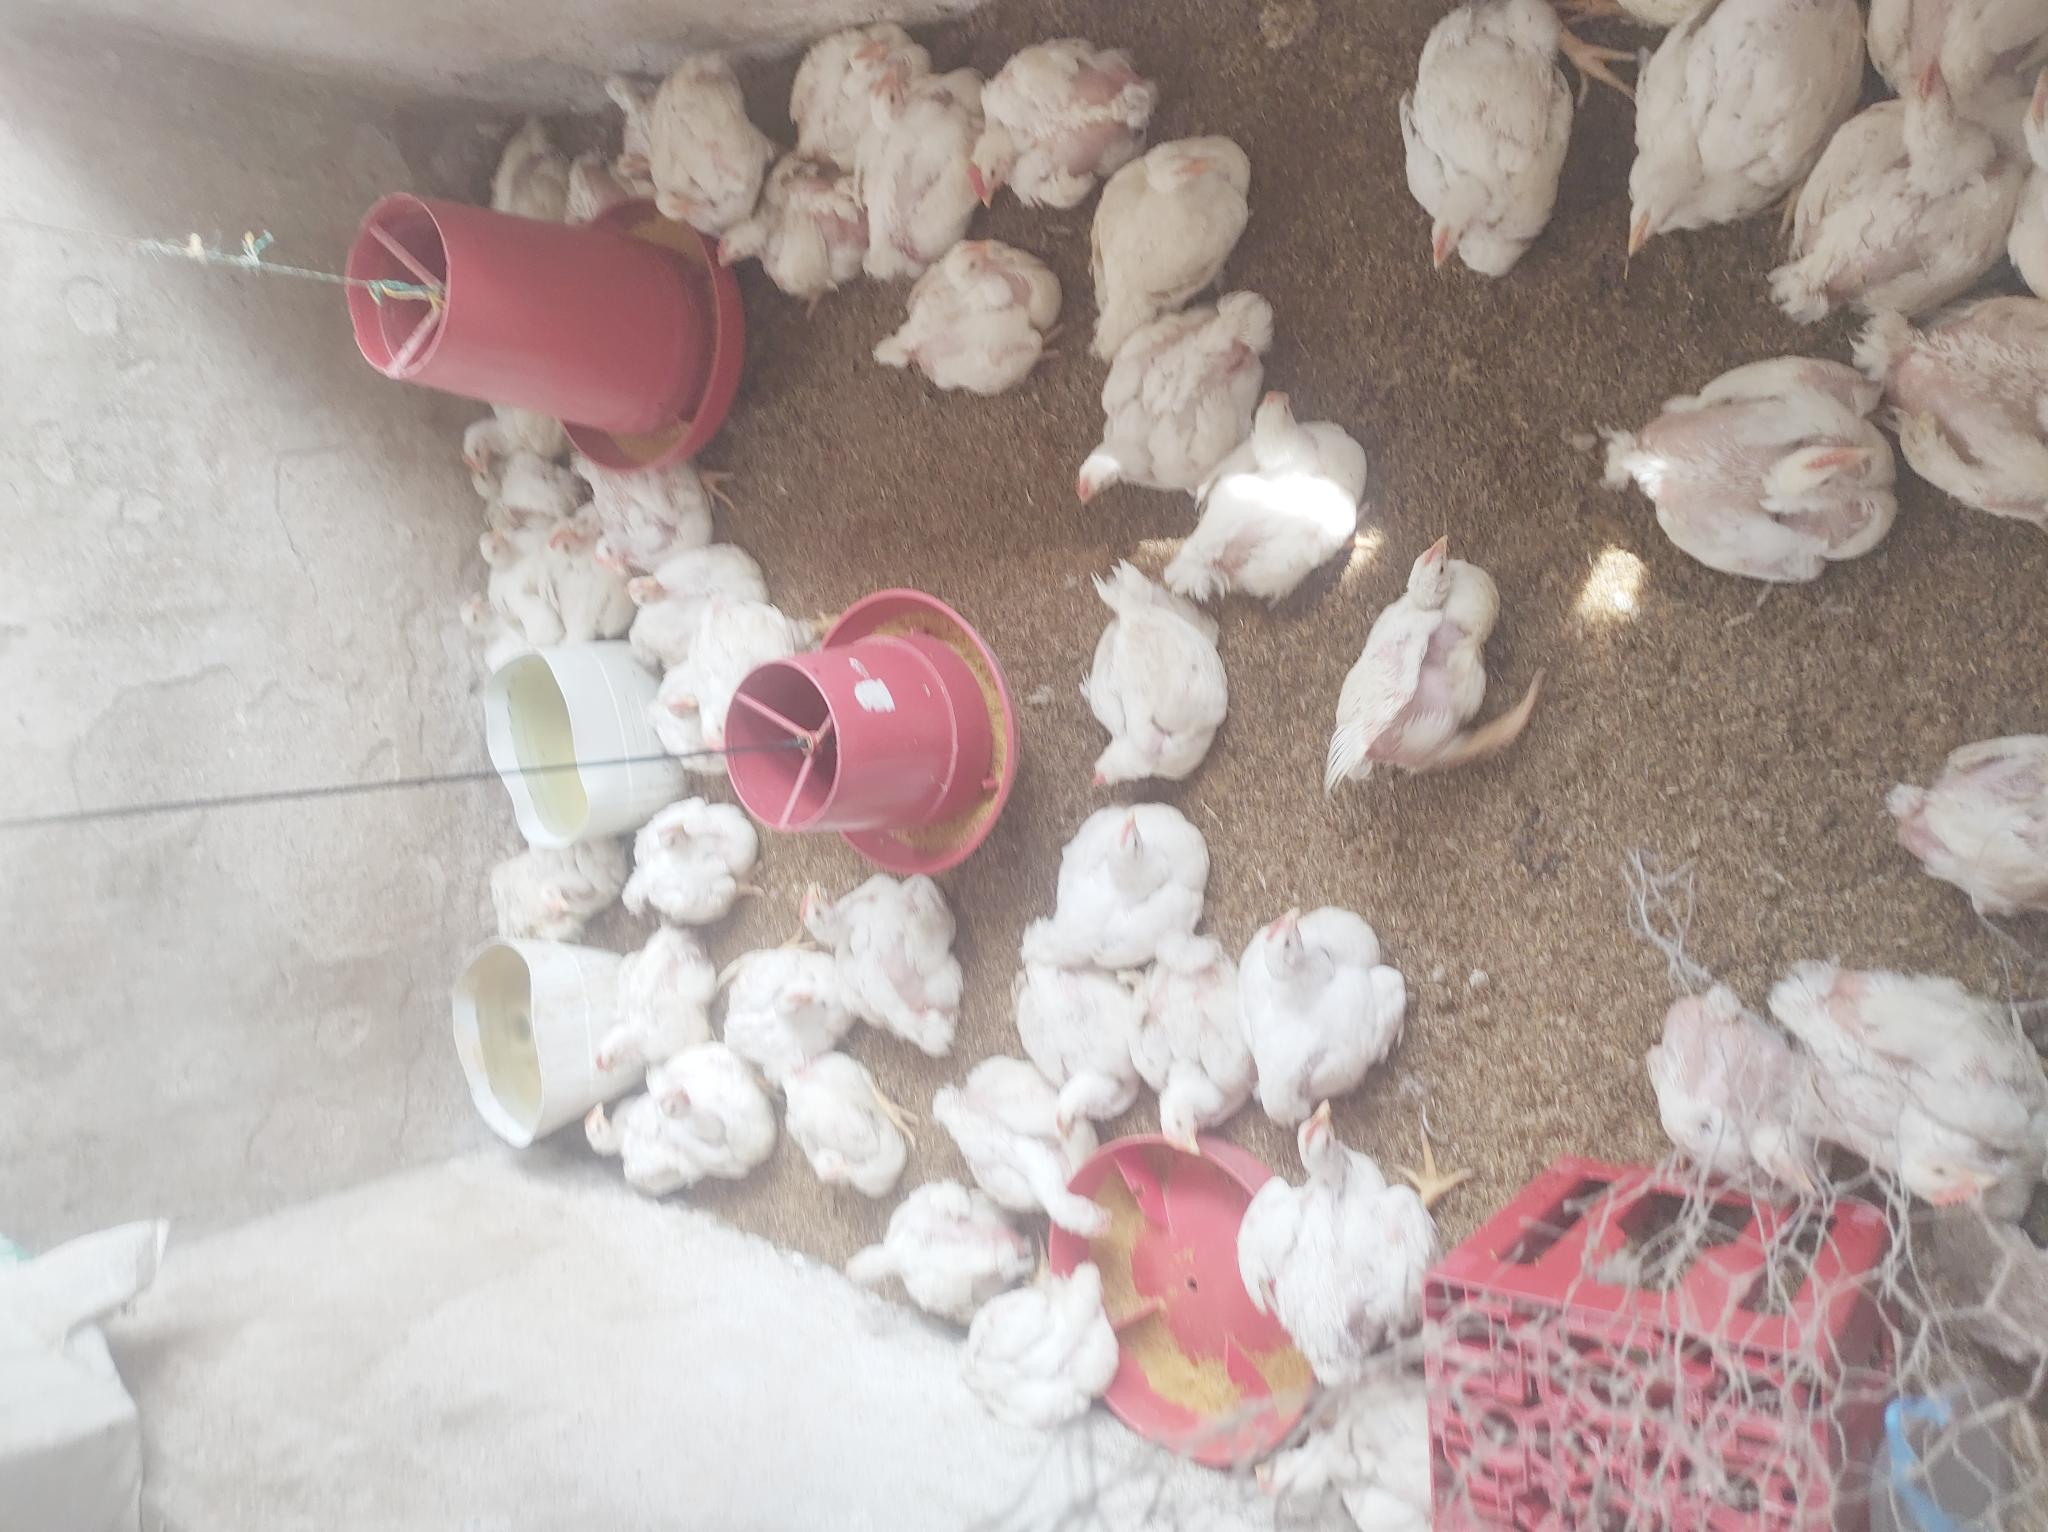Pollos: (1773, 914, 2048, 1263), (1612, 352, 1890, 591), (1609, 0, 1871, 249), (1390, 0, 1594, 309), (1779, 56, 2013, 312), (1618, 964, 1829, 1246), (1260, 1094, 1464, 1371), (1335, 521, 1538, 793), (1850, 282, 2048, 544), (1075, 286, 1282, 513), (1171, 391, 1371, 607), (1047, 563, 1239, 779), (1232, 887, 1408, 1109), (915, 1052, 1105, 1241), (1078, 129, 1261, 312), (1894, 711, 2048, 917), (1047, 790, 1211, 982), (951, 1266, 1142, 1427), (972, 47, 1150, 217), (553, 1056, 750, 1204), (883, 229, 1049, 396), (803, 863, 980, 1019), (1125, 920, 1239, 1152), (632, 640, 820, 780), (843, 79, 980, 270), (624, 793, 785, 932), (644, 50, 766, 232), (846, 1183, 1007, 1316), (716, 159, 859, 307), (988, 964, 1137, 1106), (769, 1038, 903, 1196), (785, 14, 927, 156), (463, 830, 627, 945), (705, 945, 843, 1078), (582, 467, 742, 576), (566, 933, 722, 1044), (611, 566, 782, 661), (491, 113, 568, 264), (545, 140, 647, 240), (436, 406, 600, 467), (434, 592, 512, 661), (462, 525, 539, 586), (539, 531, 597, 583), (467, 463, 528, 510)
